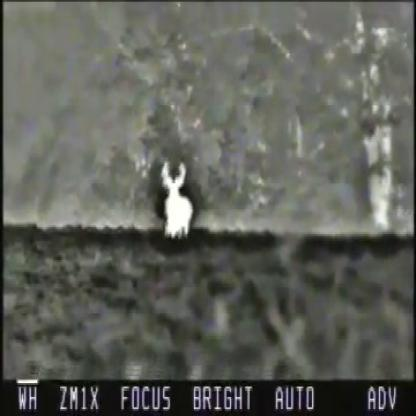rehkitze: (157, 157, 196, 241)
